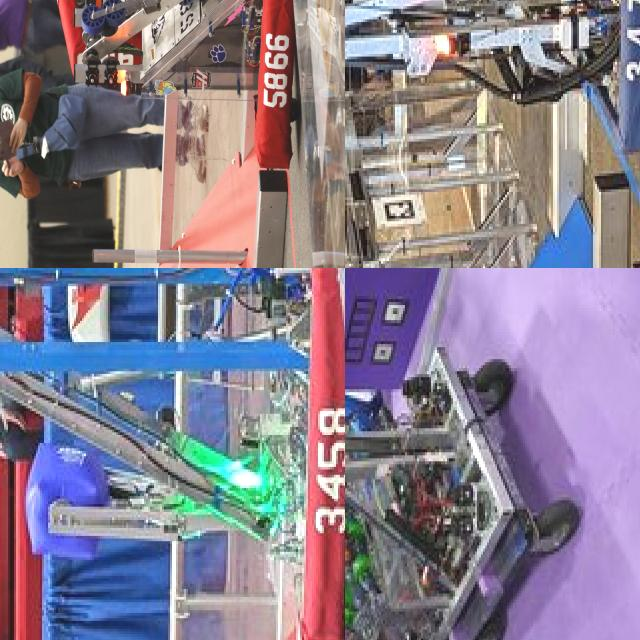FRC-Robots: (0, 268, 345, 640), (345, 0, 640, 233), (345, 323, 494, 640), (34, 0, 302, 164)
